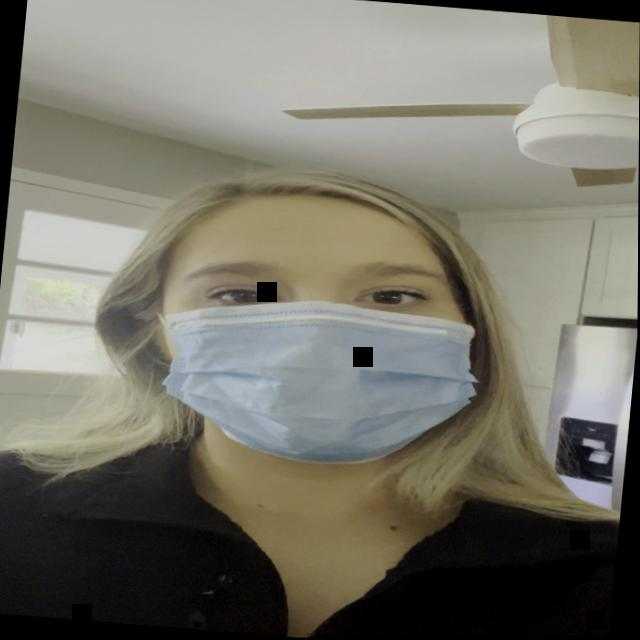Mask: (135, 179, 493, 478)
